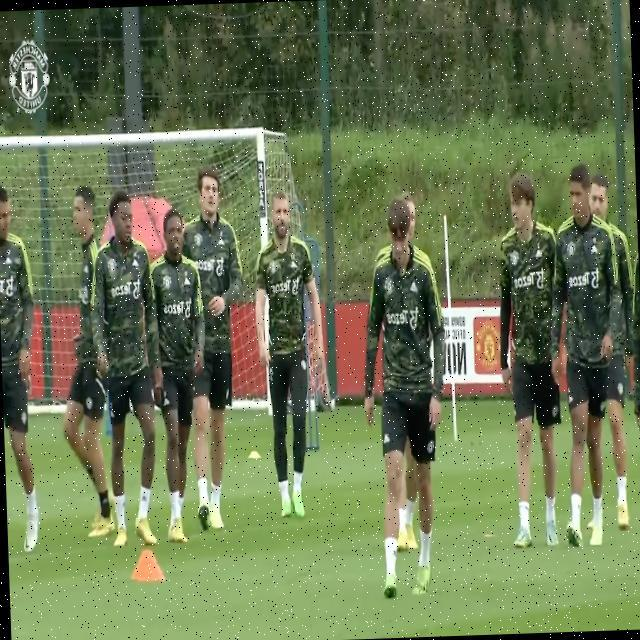Adidas: (410, 277, 419, 293), (382, 433, 391, 445), (132, 257, 140, 270), (536, 246, 543, 260), (290, 258, 297, 270), (590, 244, 597, 254)
